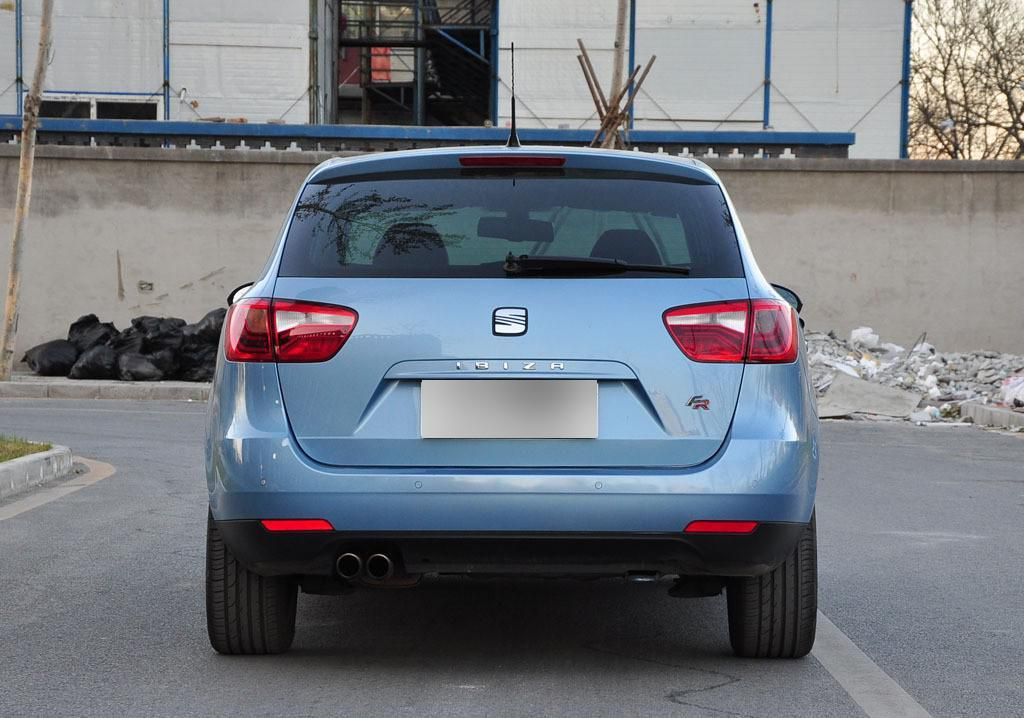Wagon: (204, 145, 820, 655)
